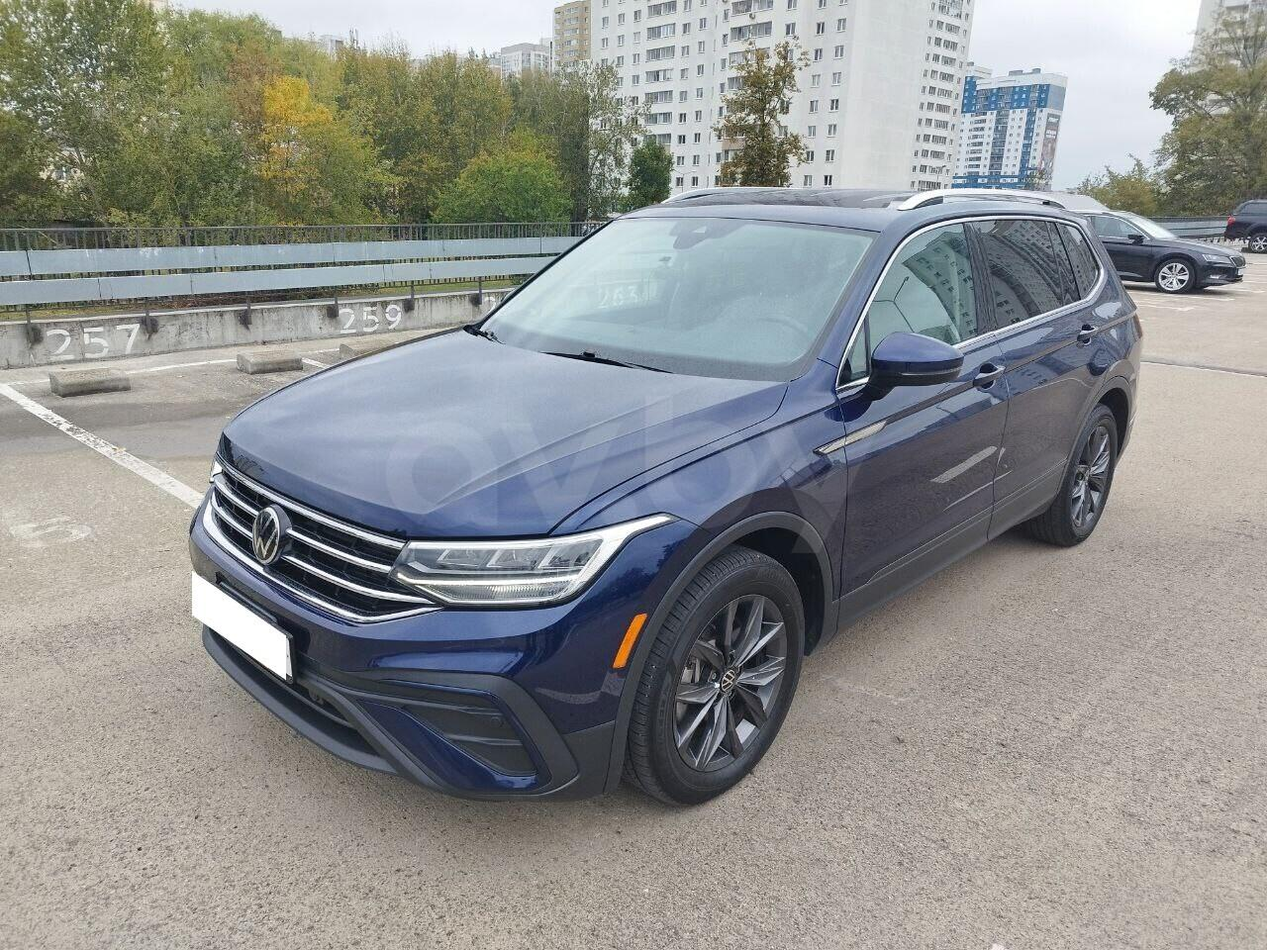Tiguan_2020-2024: (184, 184, 1142, 800)
